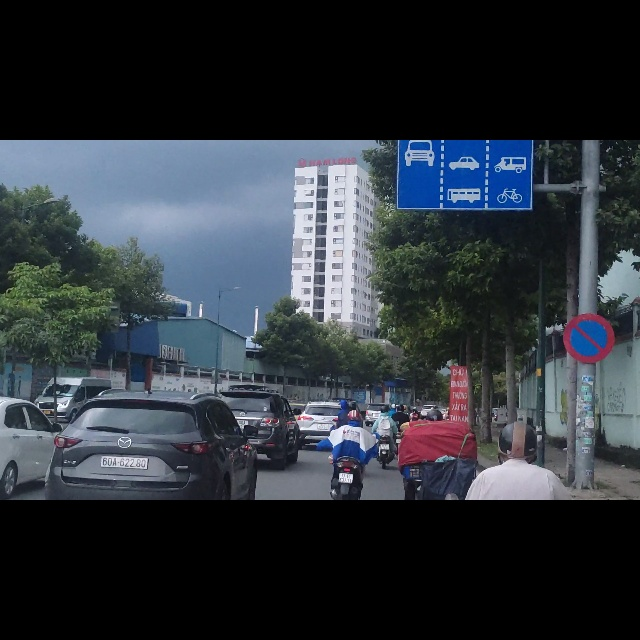bien_cam: (398, 1, 531, 123), (562, 309, 614, 396)
